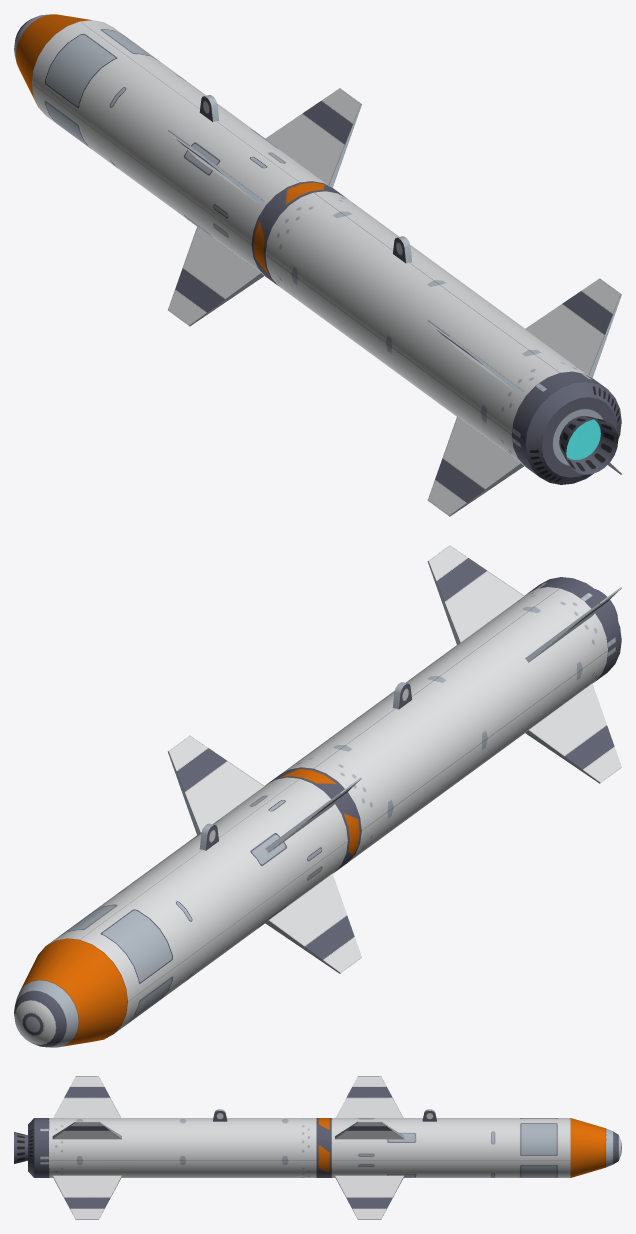
File: Missil_01.FBX
3 renders of one model, top to bottom at view 1: azimuth 30°, elevation 25°; view 2: azimuth 150°, elevation 25°; view 3: azimuth 270°, elevation 25°, orthographic. The views are drawn at different scales.
Visible parts, largest first — view 1: Missil_01; view 2: Missil_01; view 3: Missil_01.
Boxes of the visible parts, x1,y1,x2,y2 form: Missil_01: [14, 14, 621, 516]; Missil_01: [14, 545, 621, 1047]; Missil_01: [14, 1076, 621, 1219].
Size of the model in its own units: 4.14 by 4.14 by 23.19.
3 materials, 3 textured.
